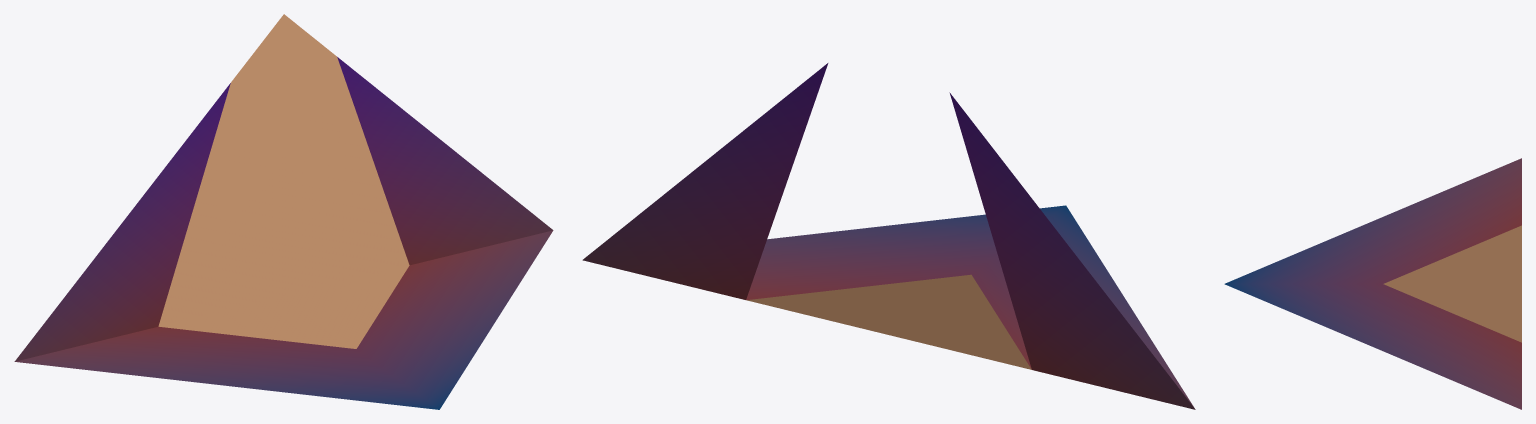
Rendered from core_materials_16.gltf.
The picture shows the model from 3 angles, left to right: view 1: azimuth 30°, elevation 25°; view 2: azimuth 150°, elevation 25°; view 3: azimuth 270°, elevation 25°; orthographic projection. The views are drawn at different scales.
Parts seen in each view (by area): view 1: Shared folded mesh (×2); view 2: Shared folded mesh (×2); view 3: Shared folded mesh (×2).
Part boxes in pixels (x1,y1,x2,y2): Shared folded mesh (×2): (14,14,553,409); Shared folded mesh (×2): (582,63,1195,409); Shared folded mesh (×2): (1224,158,1521,409).
Bounding box in the file's own units: 2 × 1 × 1.
Materials: 2 (1 with a texture image).
